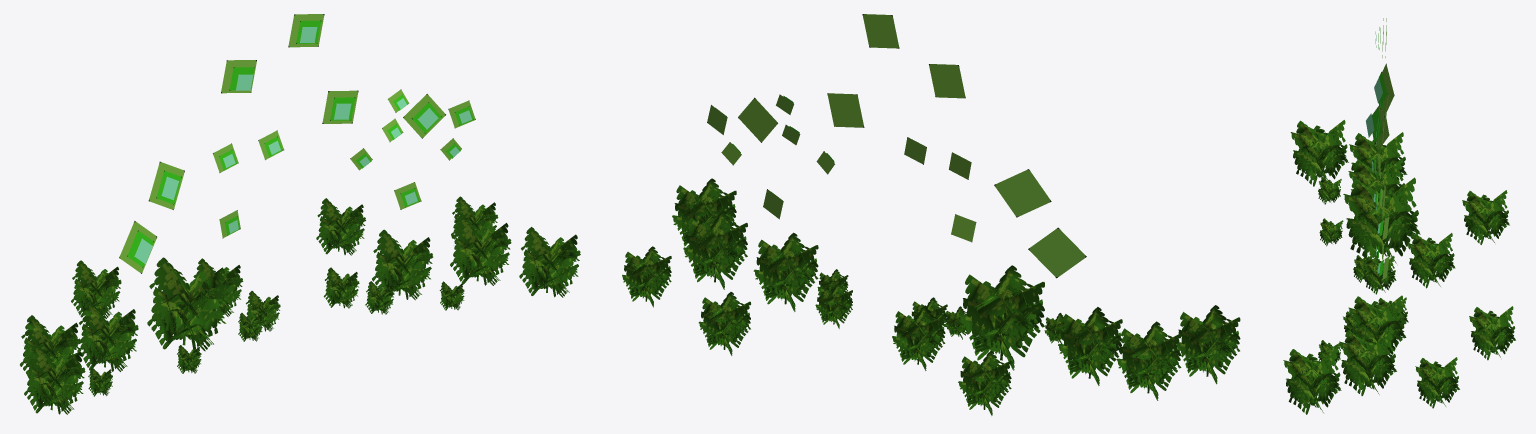
The model's file is NewTree_Bushes_Leves.obj.
3 views of the same model, side by side, from view 1: azimuth 30°, elevation 25°; view 2: azimuth 150°, elevation 25°; view 3: azimuth 270°, elevation 25° (orthographic). The views are drawn at different scales.
Visible parts, largest first — view 1: Bush05, Bush015, Bush08, Bush013, Bush07, Bush06, Bush011, Bush010, Bush014, Bush01, Bush012, Bush09 (+8 smaller); view 2: Bush05, Bush08, Bush06, Bush014, Bush013, Bush07, Bush09, Bush010, Bush015, Bush011, Bush012, pPlane16 (+6 smaller); view 3: Bush05, Bush015, Bush08, Bush013, Bush06, Bush09, Bush010, Bush011, Bush012, Bush014, Bush07, bush02:Bush01 (+8 smaller).
Part boxes in pixels (bbox=[...]): Bush05: bbox=[147, 257, 228, 351]; Bush015: bbox=[519, 227, 580, 297]; Bush08: bbox=[450, 215, 511, 285]; Bush013: bbox=[24, 344, 85, 414]; Bush07: bbox=[77, 301, 138, 371]; Bush06: bbox=[372, 229, 433, 300]; Bush011: bbox=[316, 198, 365, 255]; Bush010: bbox=[71, 260, 121, 318]; Bush014: bbox=[20, 315, 81, 379]; Bush01: bbox=[323, 267, 359, 308]; Bush012: bbox=[451, 196, 498, 240]; Bush09: bbox=[193, 258, 243, 316]; Bush05: bbox=[959, 265, 1044, 370]; Bush08: bbox=[683, 210, 747, 289]; Bush06: bbox=[753, 232, 818, 311]; Bush014: bbox=[1116, 321, 1181, 400]; Bush013: bbox=[1176, 305, 1240, 384]; Bush07: bbox=[1058, 307, 1122, 385]; Bush09: bbox=[892, 305, 945, 370]; Bush010: bbox=[958, 350, 1011, 415]; Bush015: bbox=[672, 178, 736, 247]; Bush011: bbox=[698, 292, 750, 355]; Bush012: bbox=[622, 246, 671, 307]; pPlane16: bbox=[994, 169, 1051, 217]; Bush05: bbox=[1343, 177, 1420, 263]; Bush015: bbox=[1283, 348, 1341, 414]; Bush08: bbox=[1339, 329, 1396, 395]; Bush013: bbox=[1290, 120, 1348, 186]; Bush06: bbox=[1348, 295, 1406, 354]; Bush09: bbox=[1407, 233, 1455, 288]; Bush010: bbox=[1462, 190, 1509, 244]; Bush011: bbox=[1469, 306, 1515, 360]; Bush012: bbox=[1415, 357, 1459, 408]; Bush014: bbox=[1349, 132, 1407, 180]; Bush07: bbox=[1348, 159, 1404, 195]; bush02:Bush01: bbox=[1363, 256, 1396, 294].
Bounding box in the file's own units: 295 × 162 × 119.
4 materials, 4 textured.
